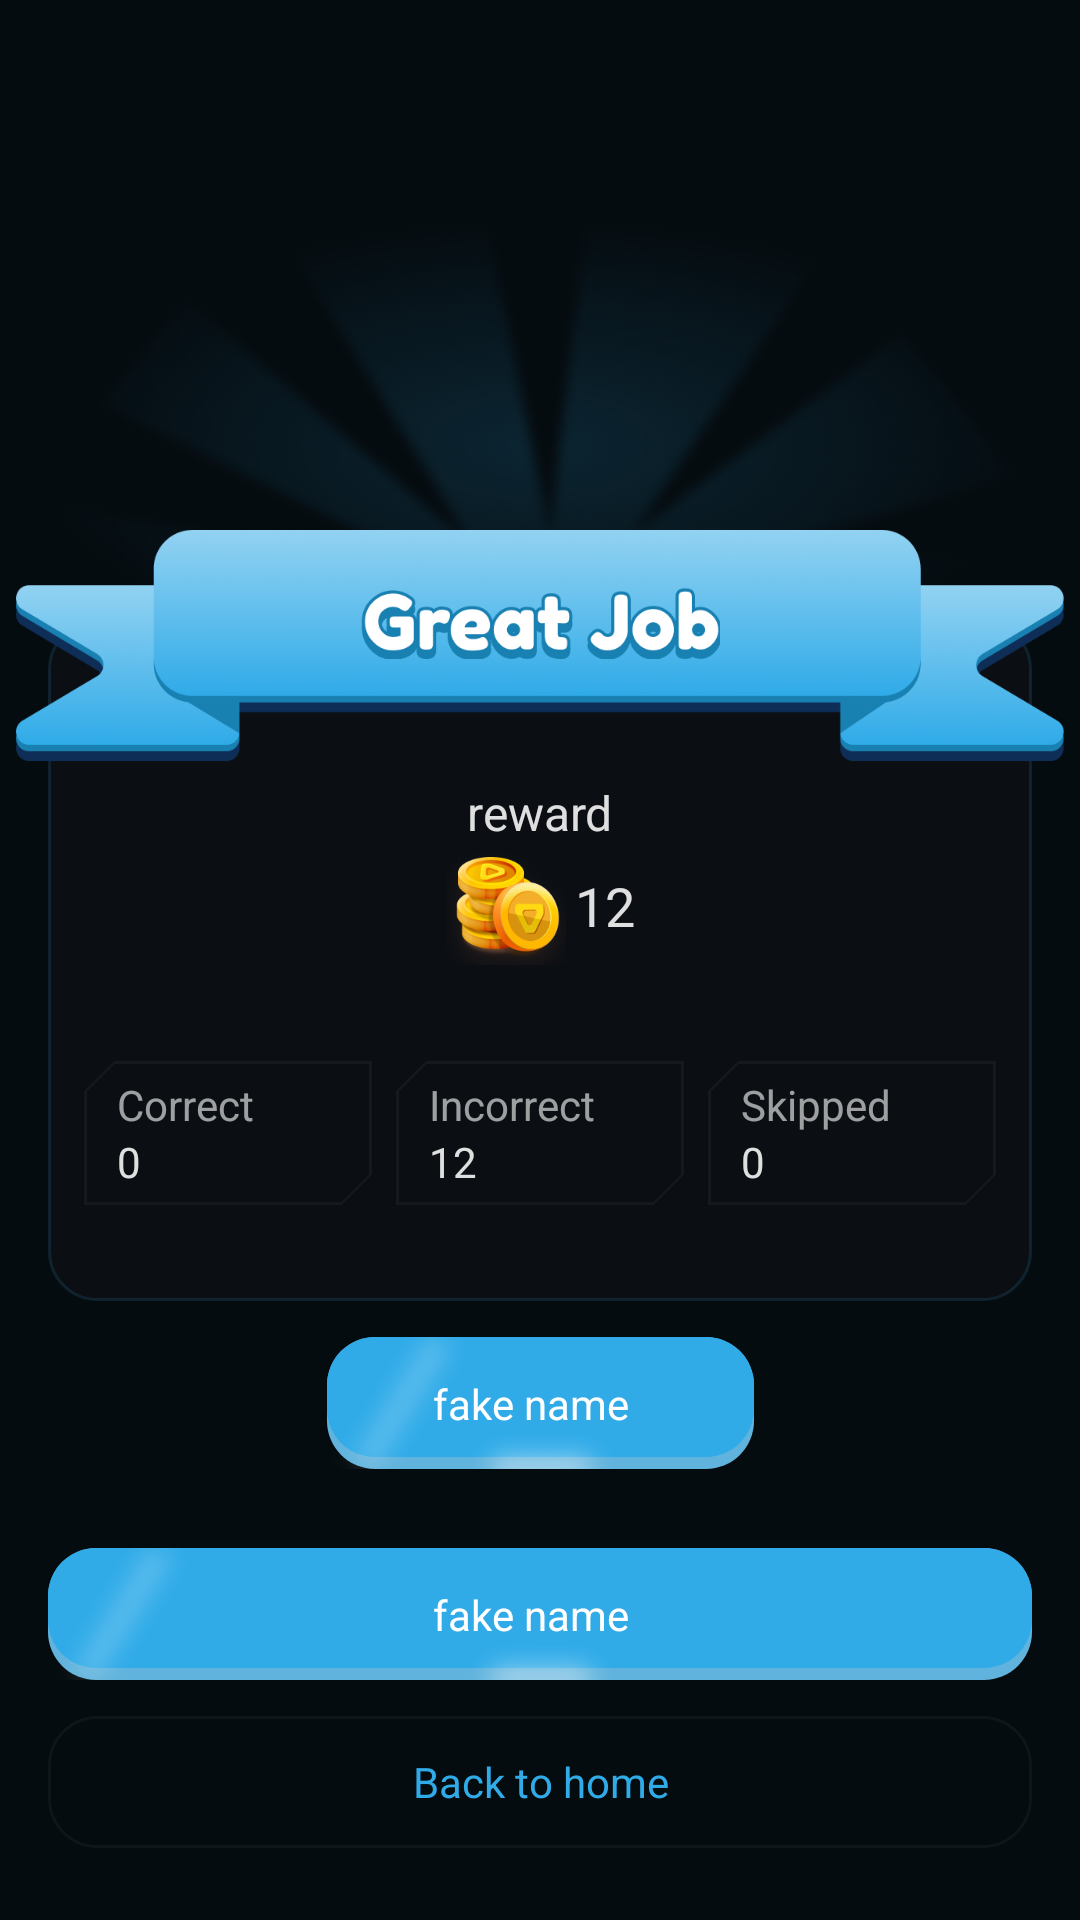

Named icons in this screenshot (1080 × 1920) and their bounding boxes, (x1, y1, x2, y2):
coins: (456, 857, 560, 956)
